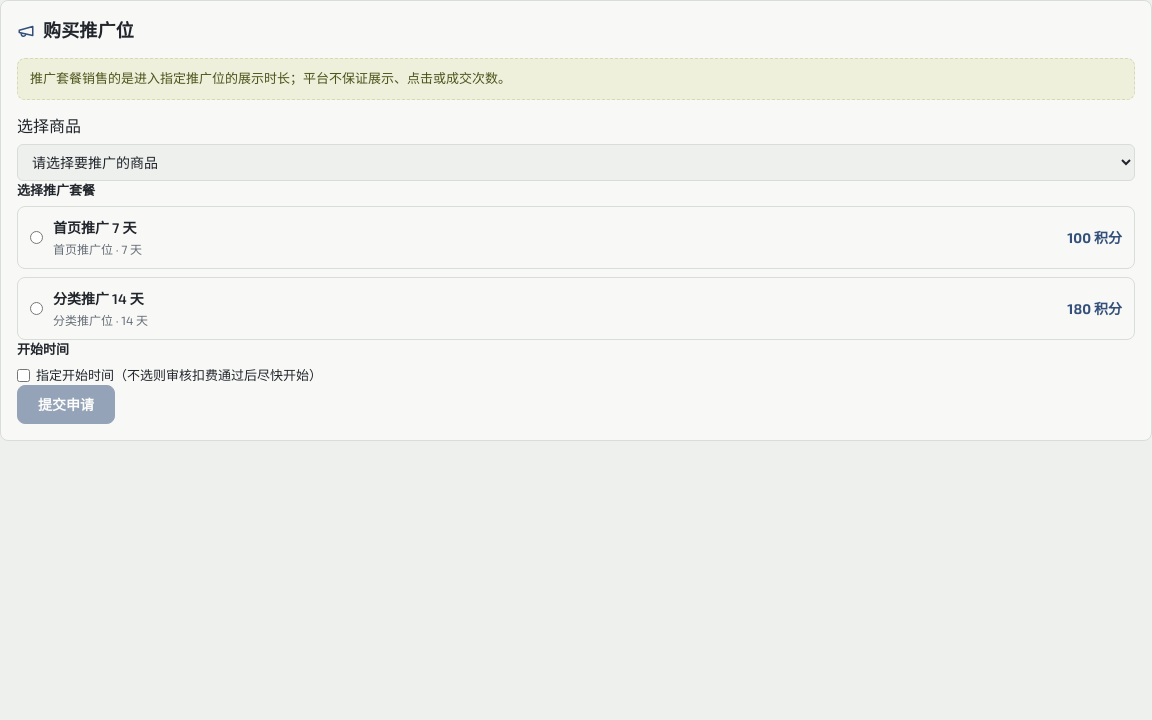
Test case: PromotionPackagePicker › shows the selected package summary (套餐/展位/时长/价格)
Click the radio button labelled "分类推广 14 天 分类推广位 · 14 天 180 积分" at (36, 308), box [30,302,43,315]
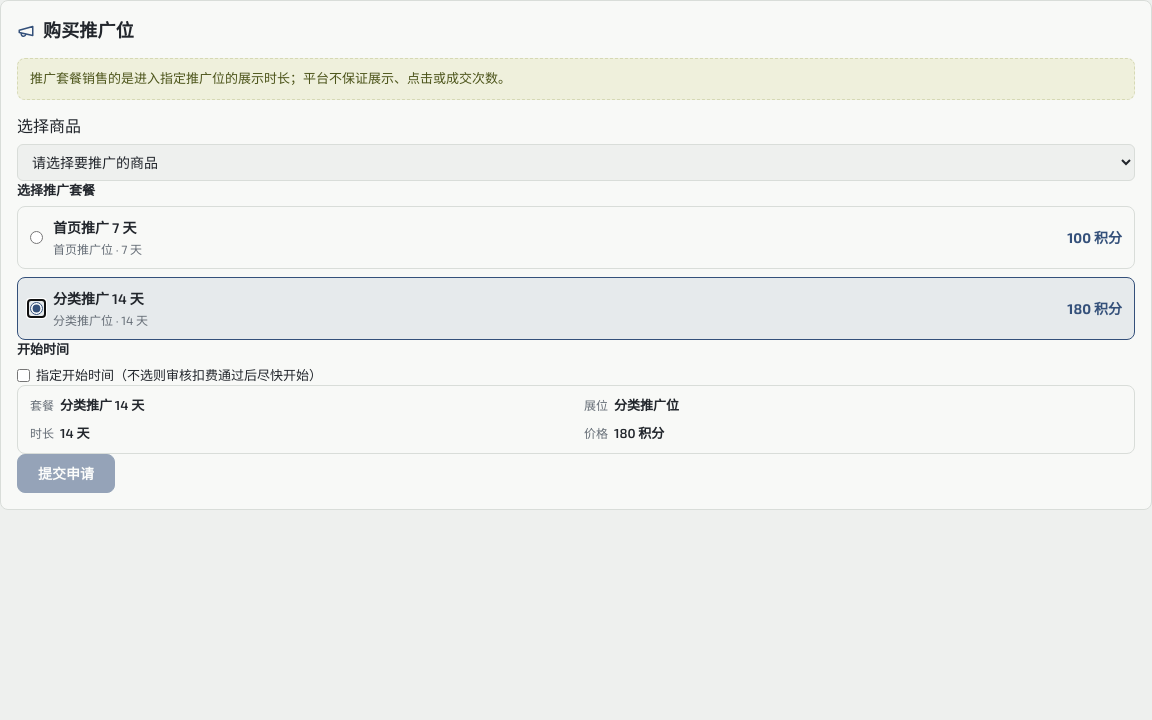
Check: the element named "套餐摘要" shows "分类推广 14 天", box [60,397,144,413]
Check: the element named "套餐摘要" shows "分类推广位", box [614,397,679,413]
Check: the element named "套餐摘要" shows "14 天", box [60,397,144,413]
